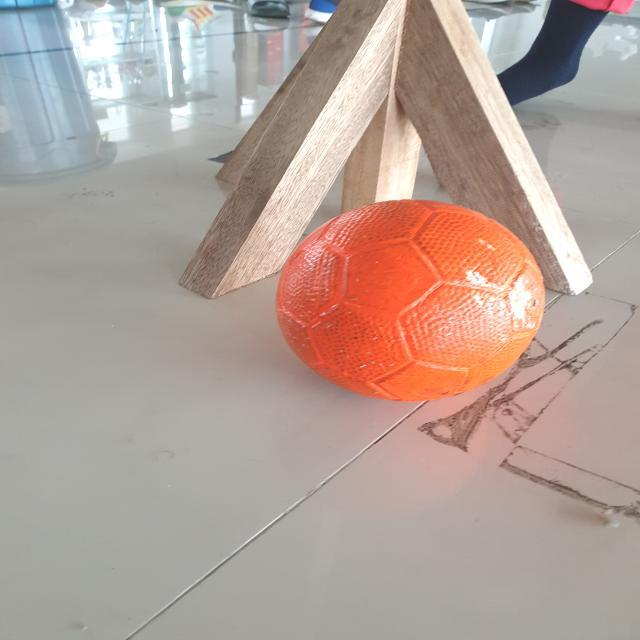bola: (260, 190, 559, 414)
